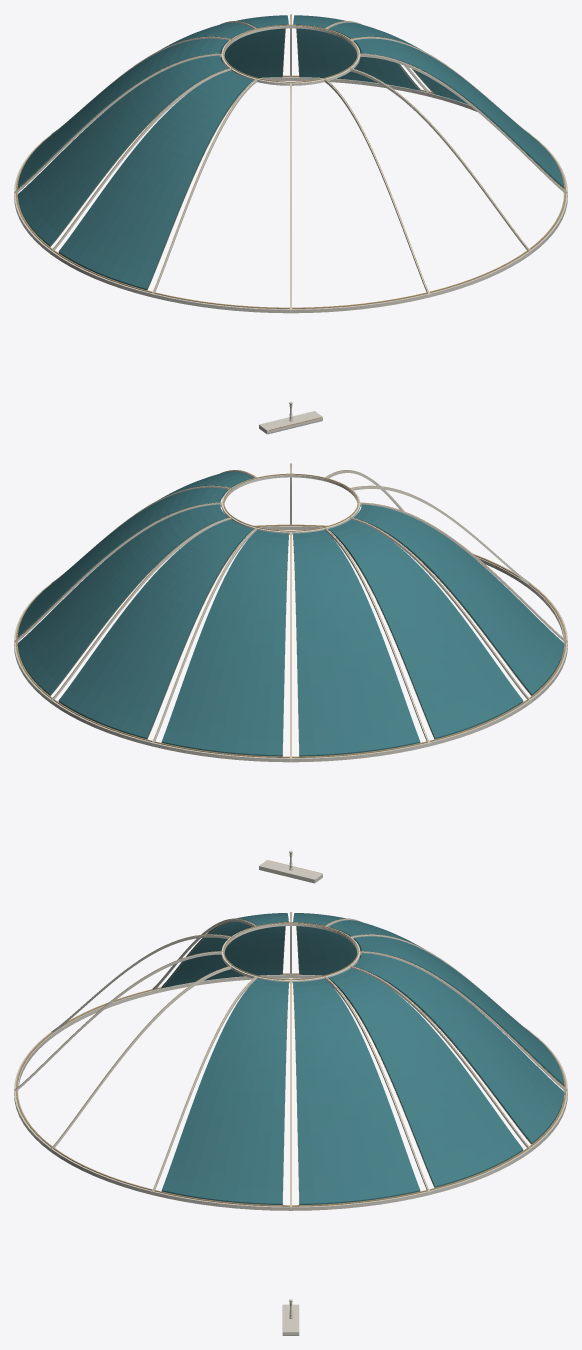
File: world08-room-structure.glb
The picture shows the model from 3 angles, top to bottom: view 1: azimuth 30°, elevation 25°; view 2: azimuth 150°, elevation 25°; view 3: azimuth 270°, elevation 25°; orthographic projection.
Visible parts, largest first — view 1: observatory-roof-frame / deep-teal-bronze, observatory-roof-frame / stone-highlight, observatory-roof-frame / aged-brass, continuous outer limestone crown, dressed tread with eased edges; view 2: observatory-roof-frame / deep-teal-bronze, observatory-roof-frame / stone-highlight, observatory-roof-frame / aged-brass, continuous outer limestone crown, dressed tread with eased edges; view 3: observatory-roof-frame / deep-teal-bronze, observatory-roof-frame / stone-highlight, observatory-roof-frame / aged-brass, continuous outer limestone crown.
Part boxes in pixels (x1=…): observatory-roof-frame / deep-teal-bronze: x1=17, y1=15, x2=564, y2=289; observatory-roof-frame / stone-highlight: x1=14, y1=14, x2=567, y2=312; observatory-roof-frame / aged-brass: x1=14, y1=14, x2=567, y2=309; continuous outer limestone crown: x1=14, y1=77, x2=567, y2=313; dressed tread with eased edges: x1=259, y1=411, x2=322, y2=434; observatory-roof-frame / deep-teal-bronze: x1=17, y1=471, x2=564, y2=756; observatory-roof-frame / stone-highlight: x1=14, y1=463, x2=567, y2=761; observatory-roof-frame / aged-brass: x1=14, y1=463, x2=567, y2=761; continuous outer limestone crown: x1=14, y1=526, x2=567, y2=762; dressed tread with eased edges: x1=259, y1=860, x2=322, y2=883; observatory-roof-frame / deep-teal-bronze: x1=161, y1=913, x2=564, y2=1204; observatory-roof-frame / stone-highlight: x1=14, y1=912, x2=567, y2=1210; observatory-roof-frame / aged-brass: x1=14, y1=912, x2=567, y2=1210; continuous outer limestone crown: x1=14, y1=974, x2=567, y2=1210.
Bounding box in the file's own units: 44.4 × 32.84 × 44.4.
